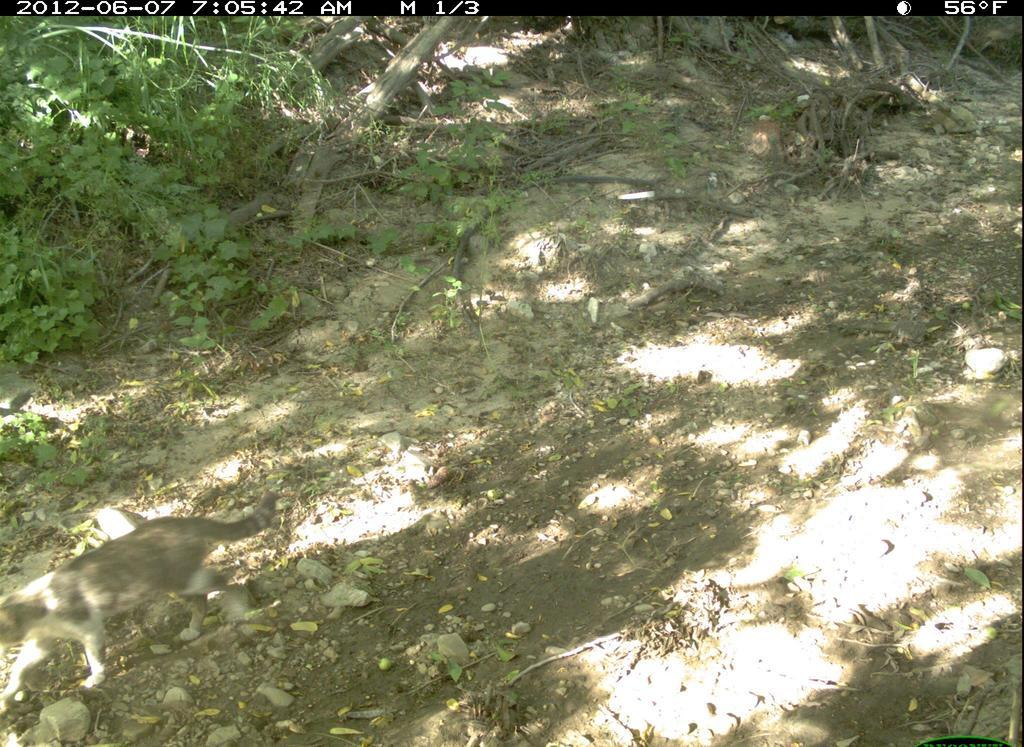cat: (1, 482, 287, 714)
